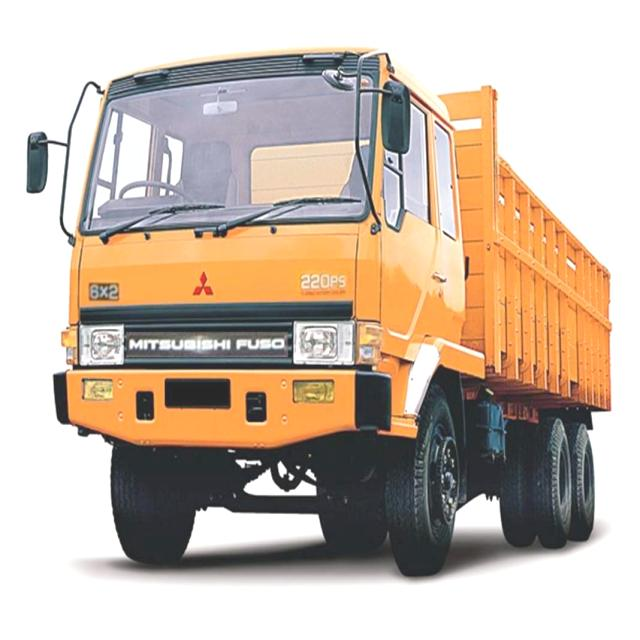truck: (26, 43, 612, 565)
